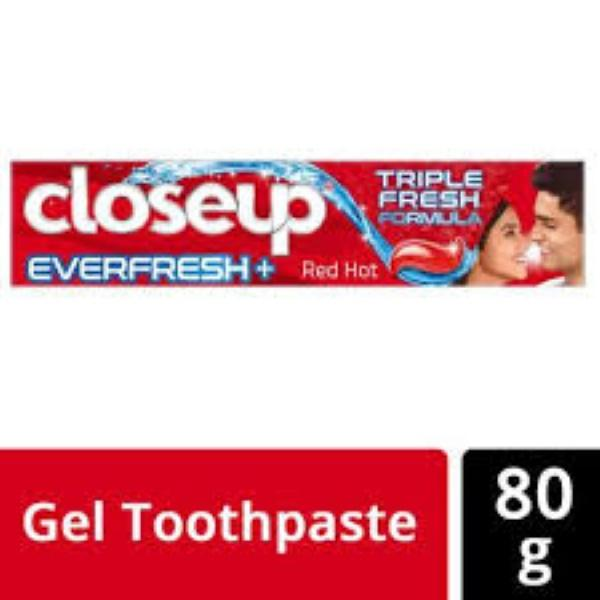CloseUp: (7, 146, 591, 307)
